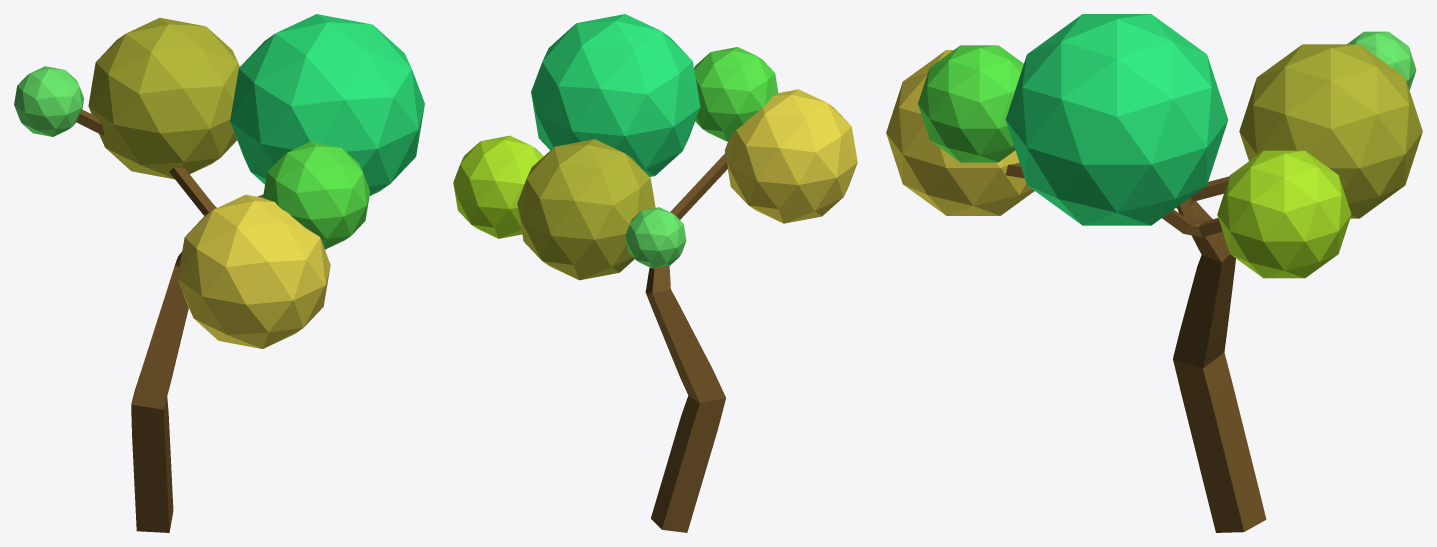
File: tree01.fbx
3 views of the same model, side by side, from view 1: azimuth 30°, elevation 25°; view 2: azimuth 150°, elevation 25°; view 3: azimuth 270°, elevation 25° (orthographic). The views are drawn at different scales.
Visible parts, largest first — view 1: Cube; view 2: Cube; view 3: Cube.
Part boxes in pixels (x1,y1,x2,y2): Cube: (14,14,424,532); Cube: (453,14,857,532); Cube: (886,14,1422,532).
Size of the model in its own units: 784 by 1267 by 1071.
